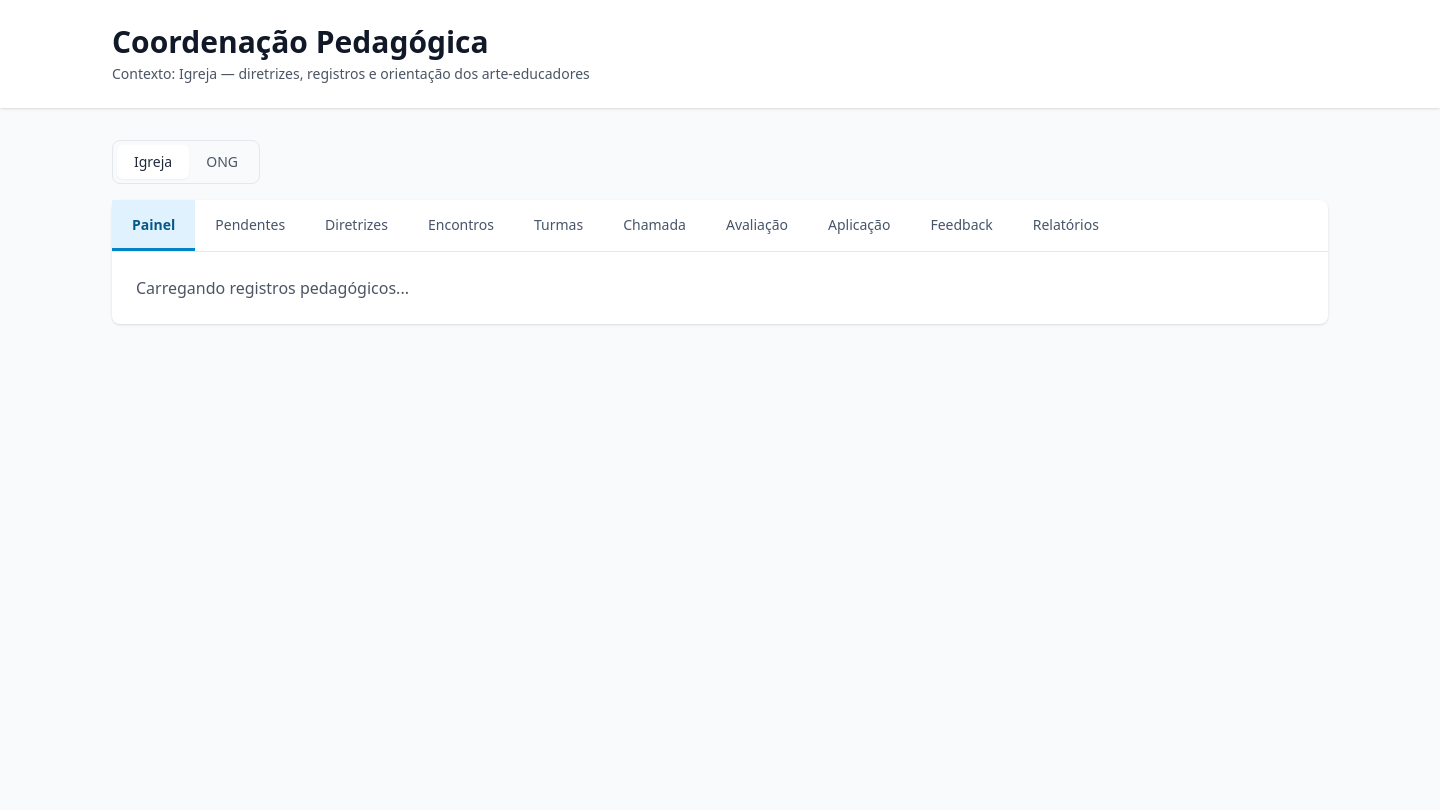
PedagogyManagementPage pending educators tab › mantém Aplicação distinta dos Relatórios qualitativos
This screenshot has width=1440, height=810.
Click the tab "Aplicação".
click(859, 226)  # box [808,200,910,251]
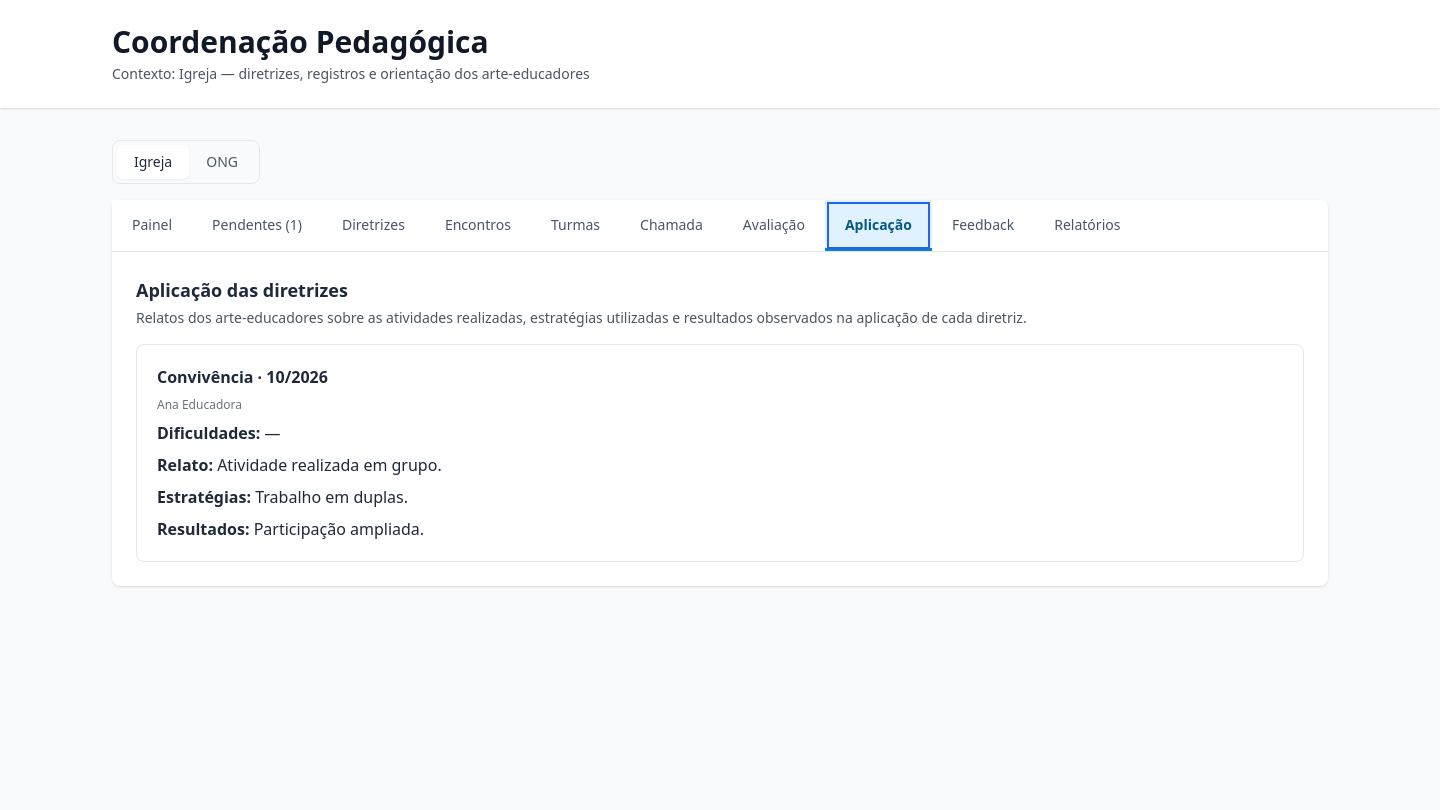
Expected: the text "Relatório qualitativo individual e coletivo" is not shown
Expected: the heading "Aplicação das diretrizes" is shown, [136,278,348,302]
Expected: the text "Atividade realizada em grupo." is shown, [217,454,442,476]
Click the tab "Relatórios".
click(1087, 226)  # box [1034,200,1140,251]
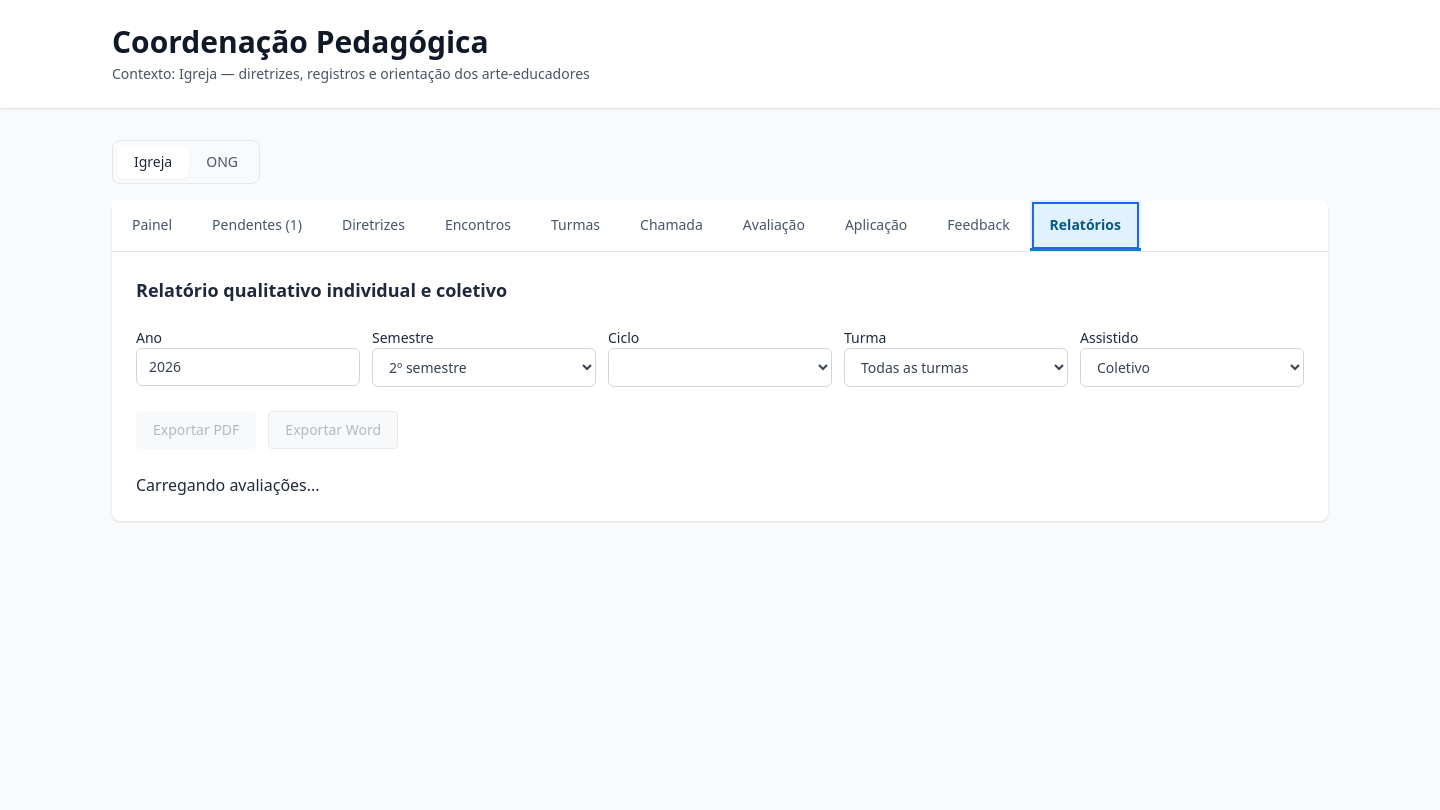
Expected: the heading "Relatório qualitativo individual e coletivo" is shown, [136,278,507,302]
Expected: the text "Atividade realizada em grupo." is gone
